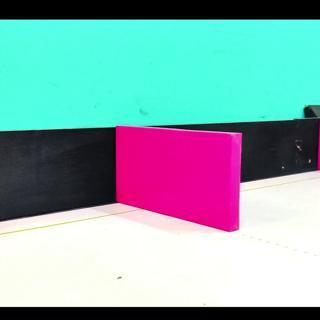xparking: (120, 136, 235, 232)
